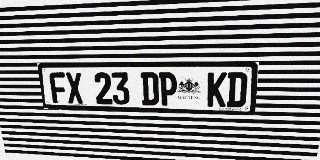2: (94, 72, 113, 104)
3: (111, 72, 130, 105)
D: (226, 72, 248, 107), (141, 72, 159, 105)
F: (49, 72, 68, 103)
K: (207, 72, 227, 107)
P: (159, 72, 177, 106)
X: (65, 72, 84, 104)
